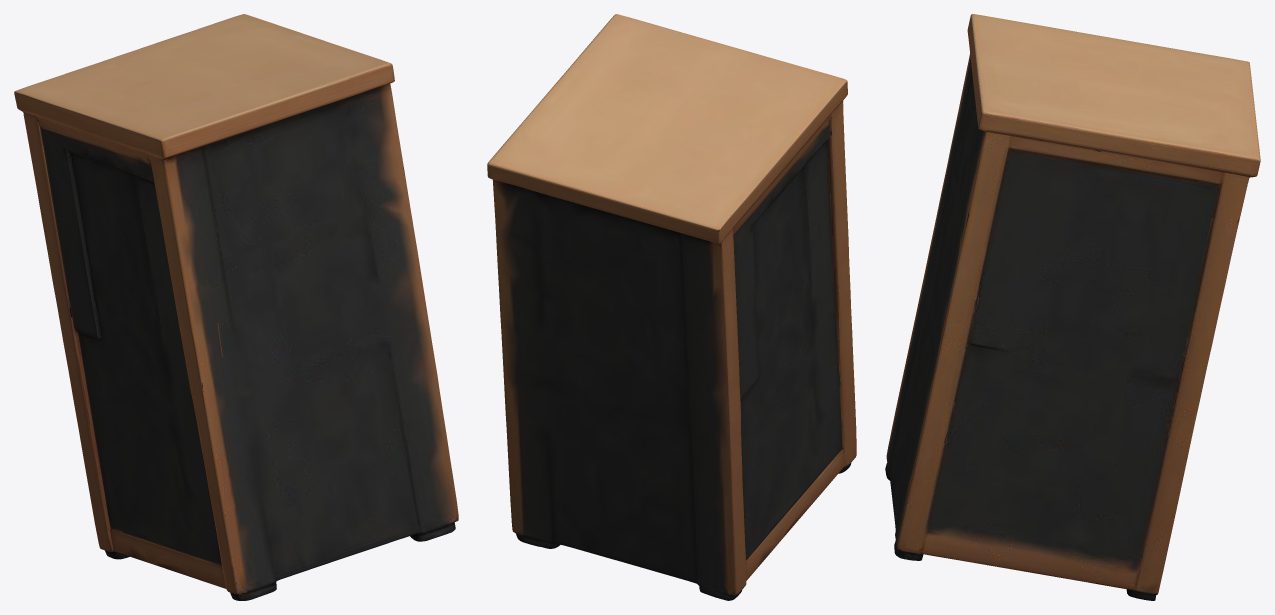
Rendered from wooden_cabinet_partially_visible_in_the_bottom_left_000.glb.
3 renders of one model, left to right at view 1: azimuth 30°, elevation 25°; view 2: azimuth 150°, elevation 25°; view 3: azimuth 270°, elevation 25°, orthographic. The views are drawn at different scales.
Parts seen in each view (by area): view 1: wooden_cabinet_partially_visible_in_the_bottom_left_000.obj; view 2: wooden_cabinet_partially_visible_in_the_bottom_left_000.obj; view 3: wooden_cabinet_partially_visible_in_the_bottom_left_000.obj.
Part boxes in pixels (left/top/right/bottom): wooden_cabinet_partially_visible_in_the_bottom_left_000.obj: left=14, top=14, right=458, bottom=600; wooden_cabinet_partially_visible_in_the_bottom_left_000.obj: left=487, top=14, right=856, bottom=600; wooden_cabinet_partially_visible_in_the_bottom_left_000.obj: left=885, top=14, right=1260, bottom=600.
Bounding box in the file's own units: 0.1263 × 0.2262 × 0.1549.
Materials: 1 (1 with a texture image).
